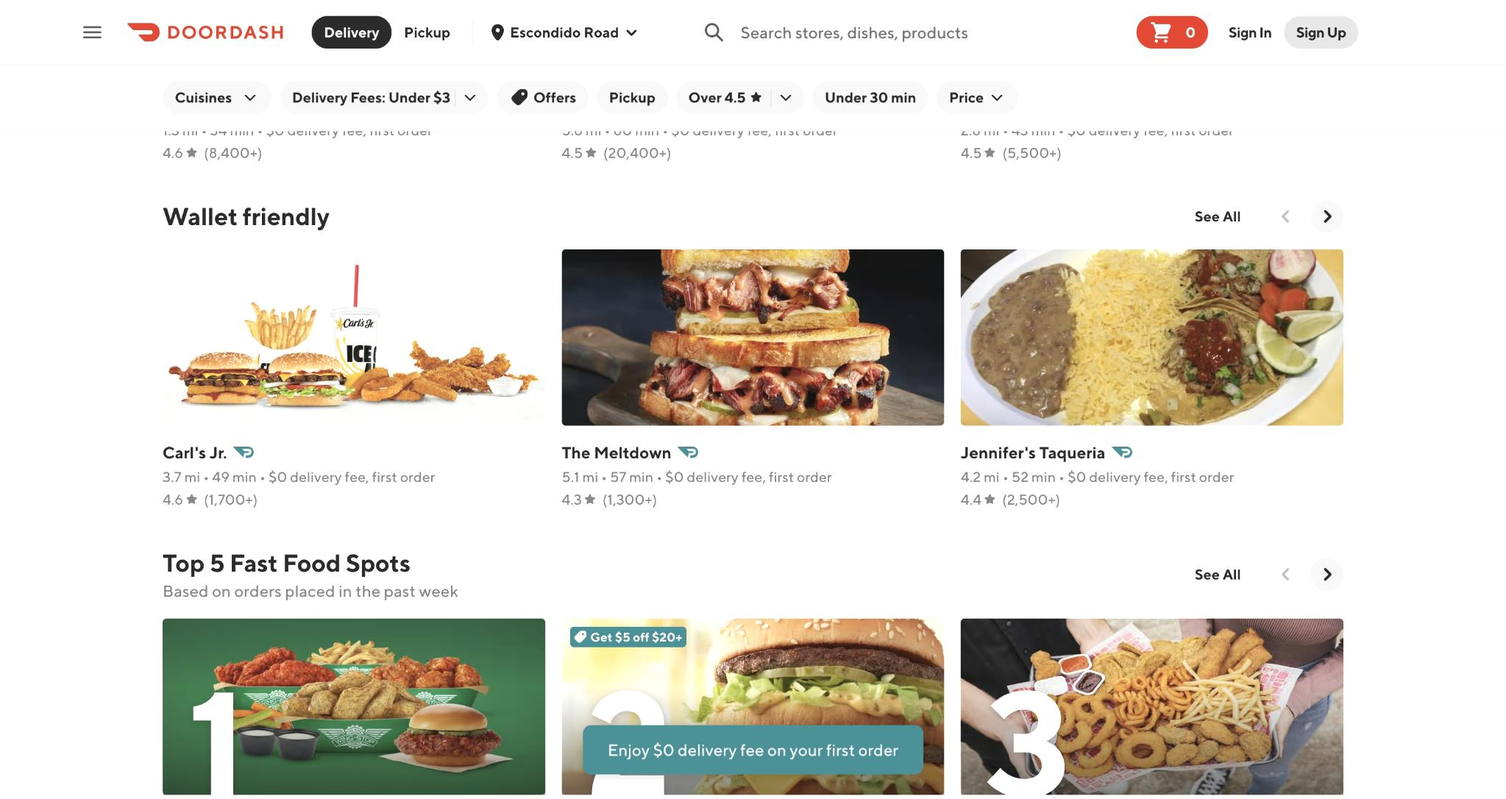webelement: (561, 248, 944, 424), (960, 248, 1343, 424), (162, 248, 544, 424), (561, 618, 944, 793), (960, 618, 1343, 793), (162, 618, 544, 793), (561, 90, 944, 166), (960, 90, 1343, 166), (162, 90, 544, 166), (561, 437, 944, 512), (960, 437, 1343, 512), (162, 437, 544, 512), (1360, 248, 1506, 424), (1360, 617, 1506, 793), (583, 725, 923, 773), (163, 546, 458, 601), (1385, 667, 1471, 799), (1360, 90, 1506, 166), (1360, 436, 1506, 512), (586, 667, 669, 799), (985, 667, 1066, 799), (740, 21, 1111, 43), (162, 546, 410, 578), (561, 489, 944, 509), (960, 489, 1343, 509), (162, 489, 544, 509), (187, 667, 243, 799), (561, 142, 944, 161), (960, 142, 1343, 161), (162, 142, 544, 161), (279, 80, 487, 113), (163, 579, 458, 601), (162, 199, 329, 232), (960, 466, 1234, 486), (163, 466, 435, 486), (561, 466, 832, 486), (561, 120, 837, 139), (960, 120, 1232, 139), (163, 120, 432, 139), (675, 80, 803, 113), (561, 93, 732, 116), (812, 80, 927, 113), (960, 440, 1104, 462), (496, 80, 587, 113), (126, 22, 281, 41), (292, 88, 475, 104), (1360, 119, 1506, 139), (1360, 141, 1506, 161), (1360, 466, 1506, 486), (1215, 11, 1283, 52), (1360, 489, 1506, 508), (311, 15, 391, 48), (561, 440, 671, 462), (1136, 15, 1207, 48), (596, 80, 667, 113), (391, 15, 461, 48), (1182, 199, 1252, 232), (1182, 557, 1252, 589), (163, 93, 252, 116), (1360, 440, 1449, 462), (1388, 257, 1480, 276), (590, 626, 682, 645), (509, 24, 617, 40), (1359, 93, 1432, 116), (687, 88, 790, 104), (71, 11, 111, 52), (174, 87, 258, 106), (960, 93, 1029, 116), (824, 88, 915, 104), (162, 440, 226, 462), (602, 142, 671, 161), (1148, 19, 1195, 44), (1001, 489, 1059, 509), (1401, 489, 1459, 509), (203, 142, 262, 161), (1003, 142, 1062, 161), (452, 80, 485, 113), (949, 87, 1006, 106), (203, 489, 257, 509), (602, 489, 656, 509), (508, 88, 575, 104), (769, 80, 801, 113), (1296, 22, 1346, 42), (323, 24, 379, 40), (1228, 22, 1271, 42), (1401, 142, 1446, 161), (1194, 207, 1240, 224), (403, 24, 449, 40), (608, 88, 654, 104), (1194, 565, 1240, 581), (960, 142, 982, 161), (162, 489, 182, 509), (562, 489, 582, 509), (960, 489, 980, 509), (1359, 489, 1379, 509), (561, 142, 582, 161), (162, 142, 182, 161), (1359, 142, 1379, 161)
